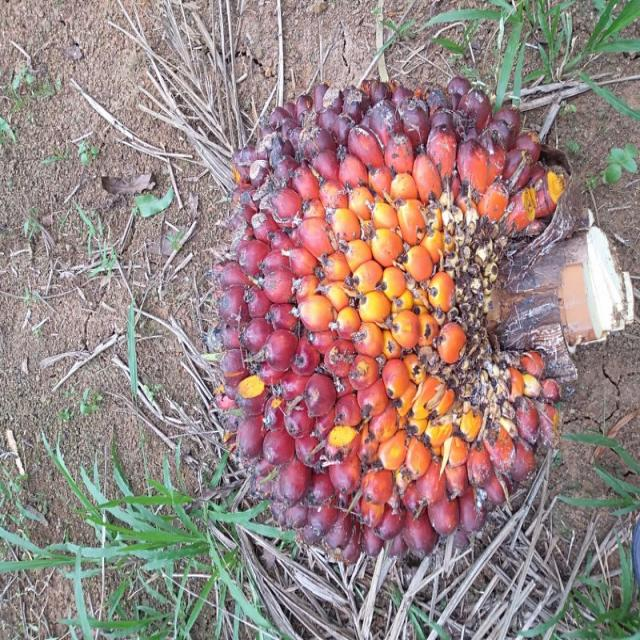fraksi 3: (160, 57, 600, 602)
